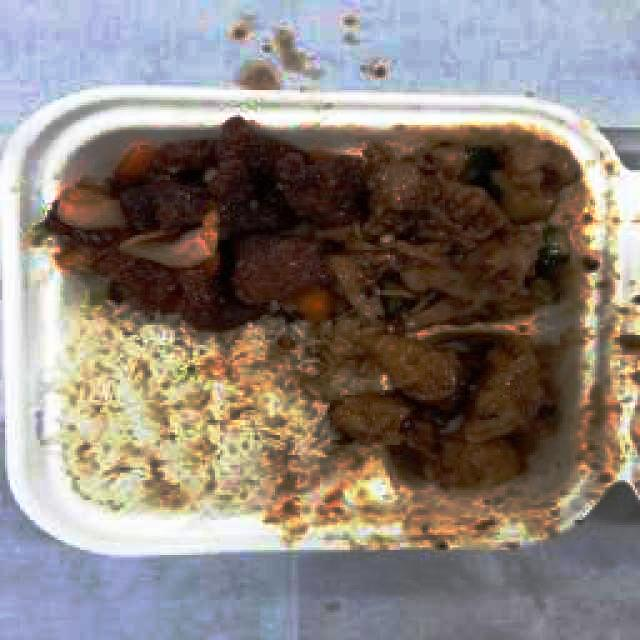Beijing Beef: (55, 114, 353, 314)
Kung Pao Chicken: (359, 137, 575, 320)
rice: (59, 327, 323, 514)
